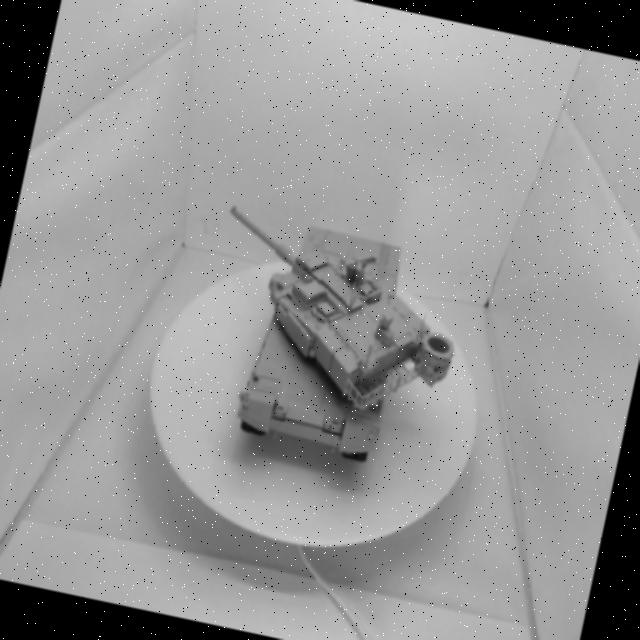korea tank: (122, 148, 506, 504)
